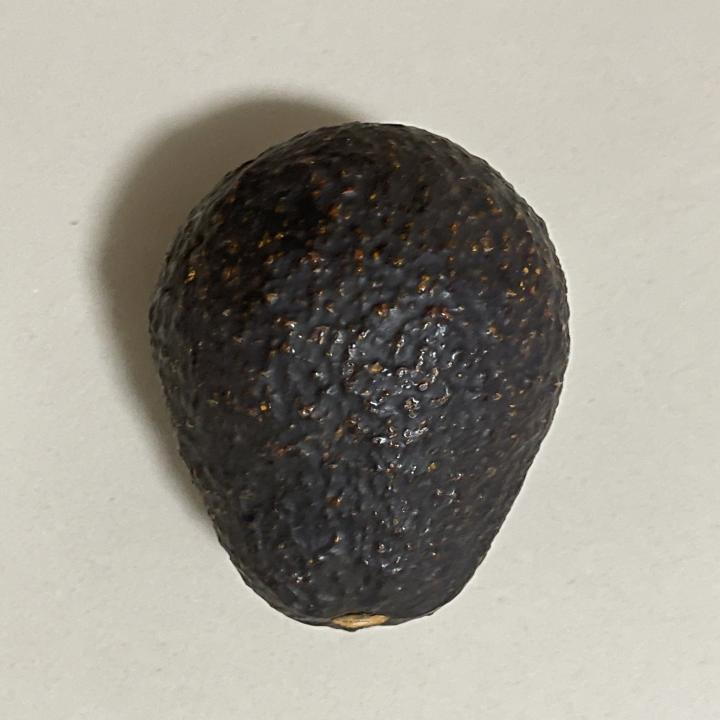Level2: (140, 116, 582, 642)
